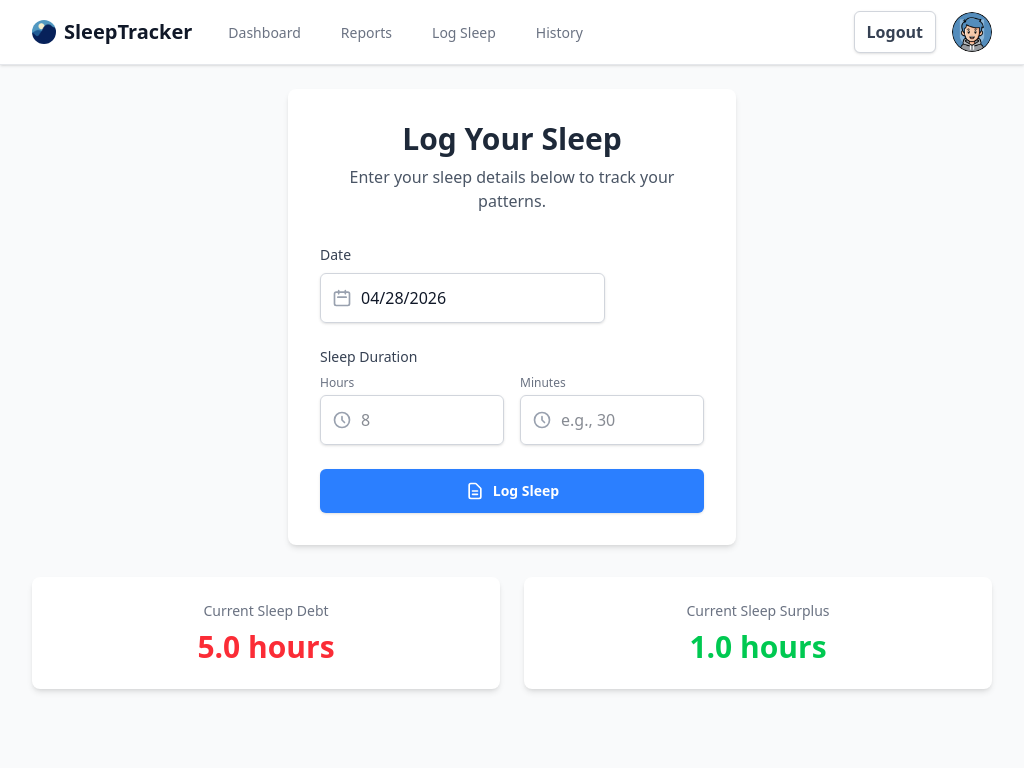
Scenario: SleepTracker › should submit new sleep data and display the updated state
Expected: the text "5.0 hours" is shown, [197, 626, 335, 667]
Type "9" into the number field with placeholder "8" at (412, 420), box [320, 395, 504, 445]
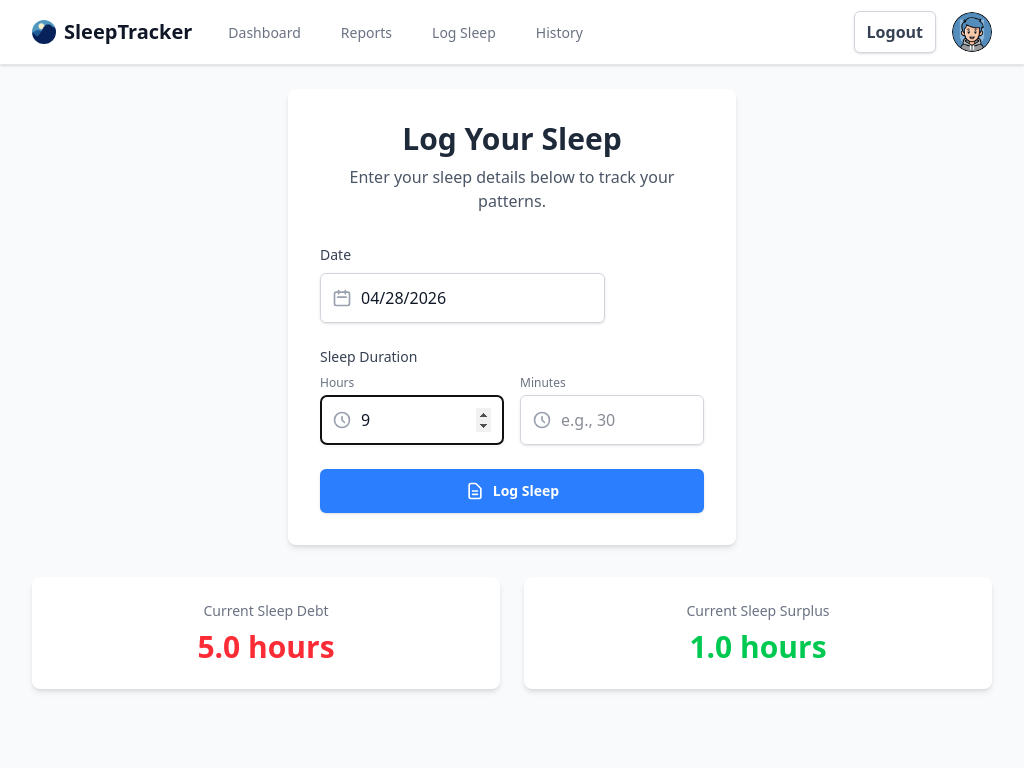
Type "30" into the number field with placeholder "e.g., 30" at (612, 420), box [520, 395, 704, 445]
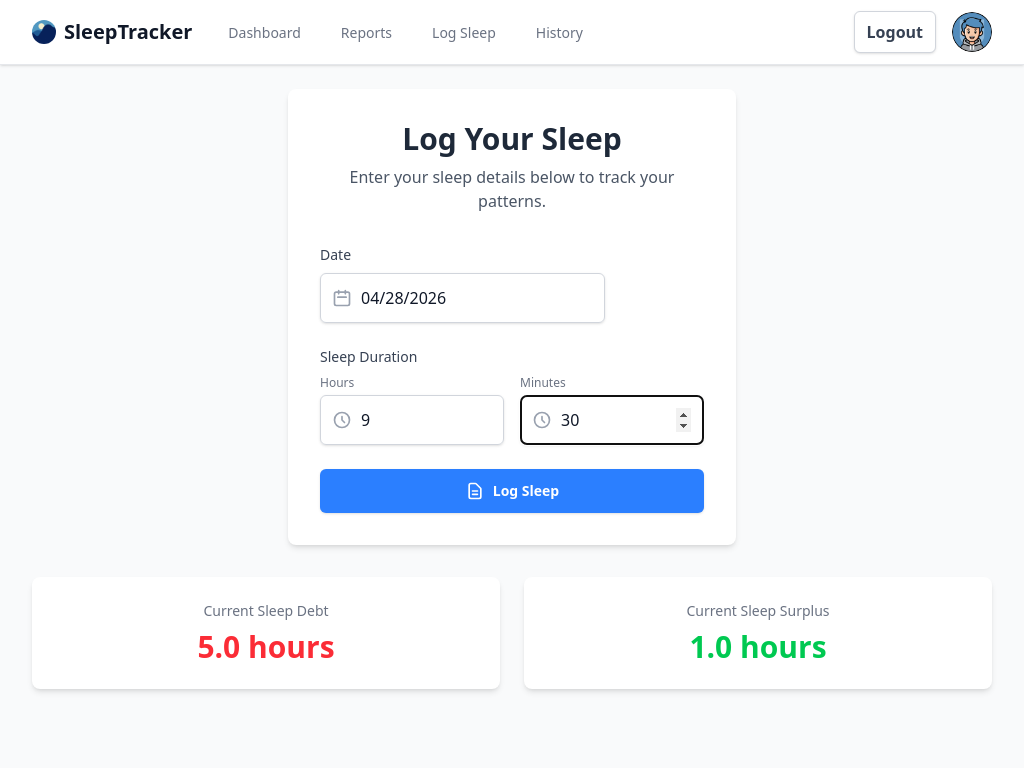
Click the button "Log Sleep" at (512, 491), box [320, 469, 704, 513]
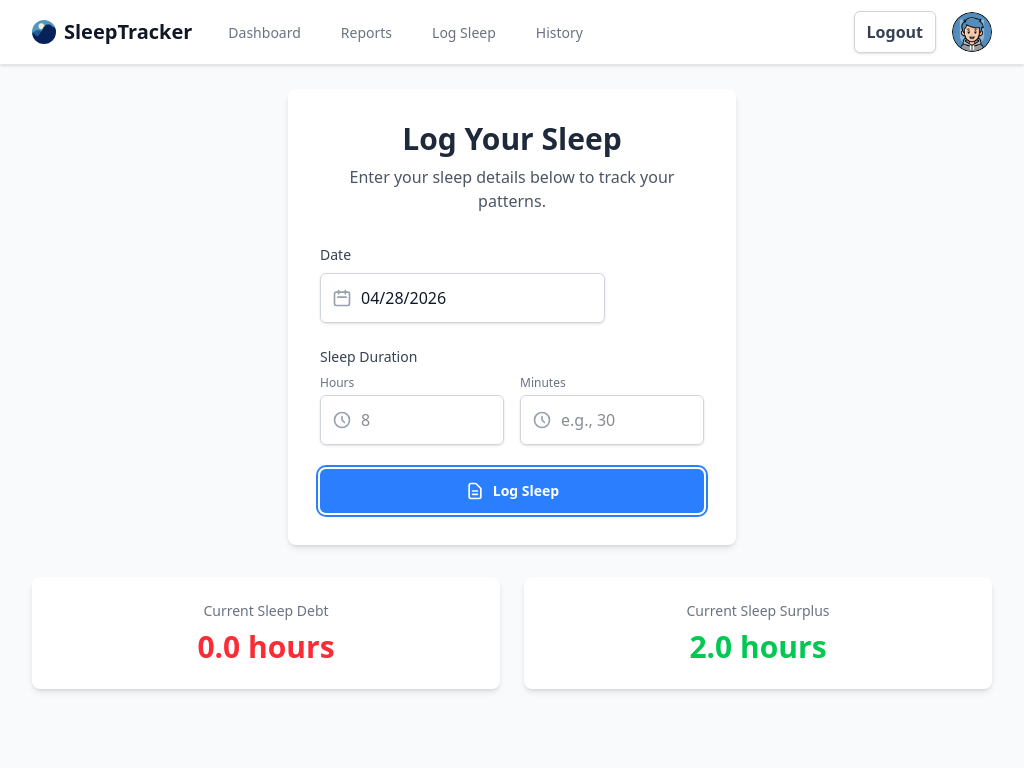
Expected: the text "0.0 hours" is shown, [197, 626, 335, 667]
Expected: the text "2.0 hours" is shown, [689, 626, 827, 667]
